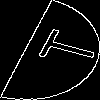T: (25, 25, 100, 70)
